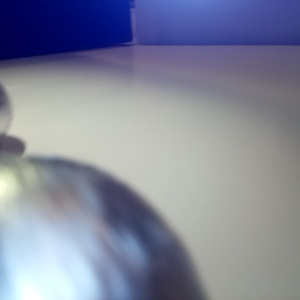alive_ball: (1, 152, 203, 300), (1, 83, 13, 141)
